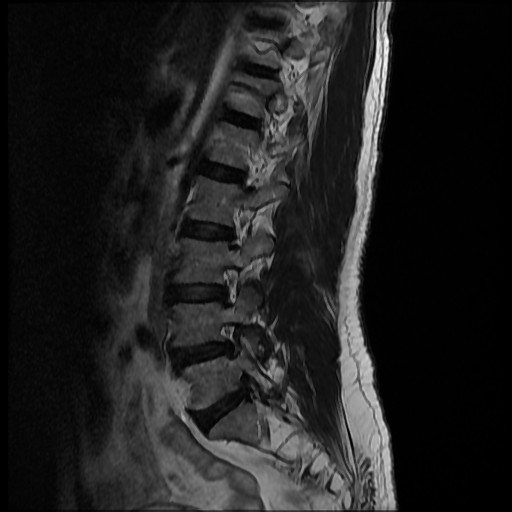RFS0: (208, 261, 249, 316)
RFS2: (209, 315, 250, 366)
